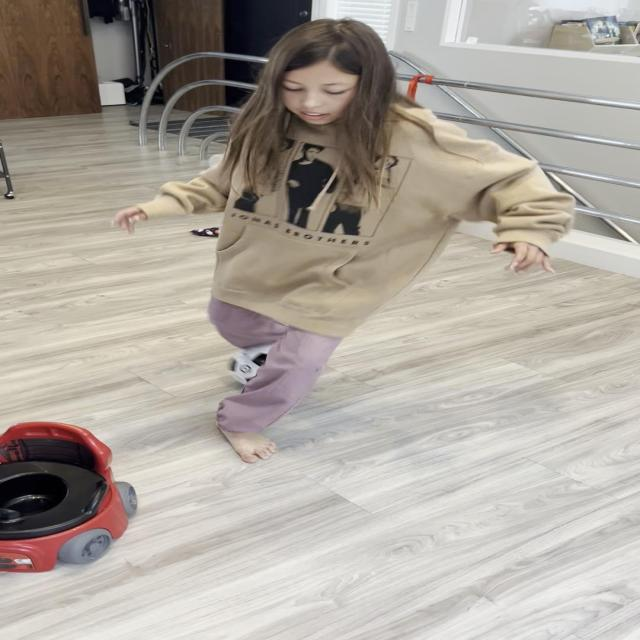Soccer Ball: (230, 343, 307, 387)
